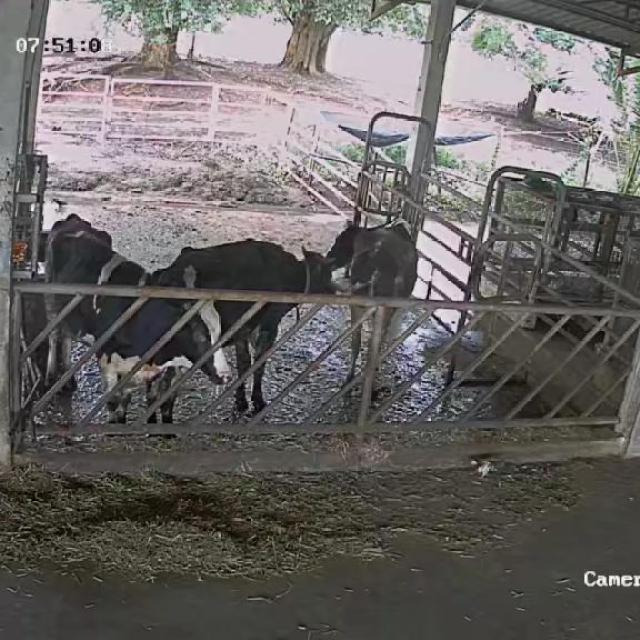standing: (38, 207, 232, 427), (326, 216, 418, 405)
